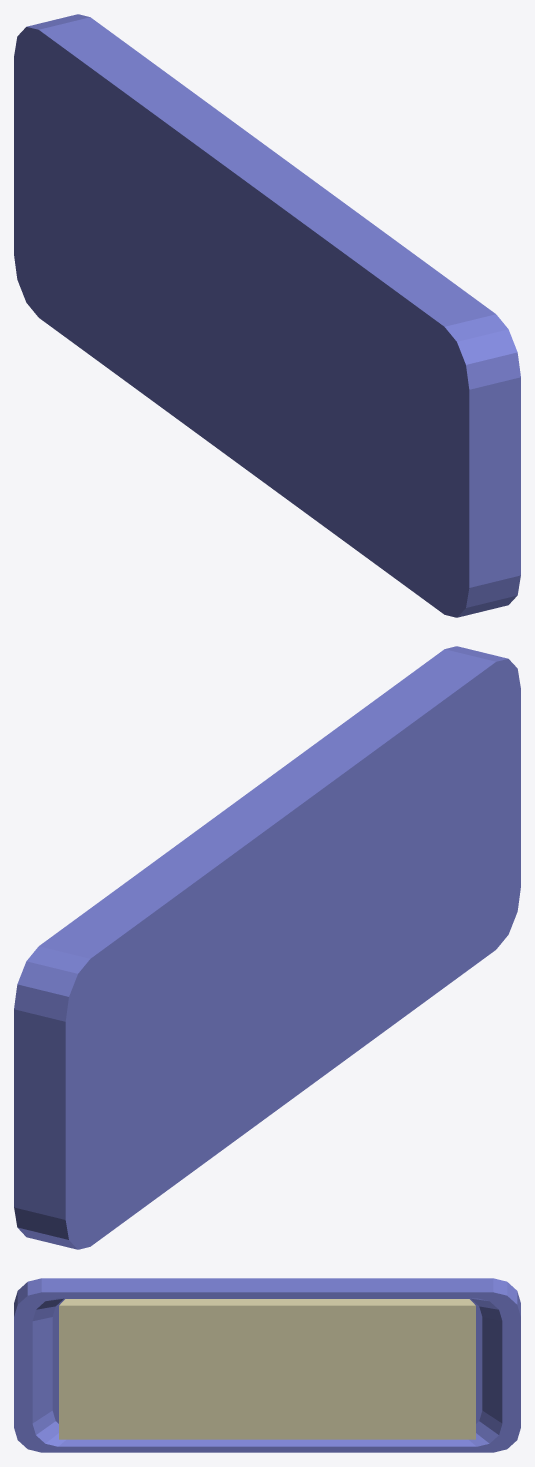
3 views of the same model, one above another, from view 1: azimuth 30°, elevation 25°; view 2: azimuth 150°, elevation 25°; view 3: azimuth 270°, elevation 25° (orthographic). The views are drawn at different scales.
Visible parts, largest first — view 1: Cube.001; view 2: Cube.001; view 3: Cube.001.
Boxes of the visible parts, x1,y1,x2,y2 form: Cube.001: [14, 14, 520, 617]; Cube.001: [14, 646, 520, 1249]; Cube.001: [14, 1278, 520, 1452].
Bounding box in the file's own units: 62.31 × 331 × 948.
